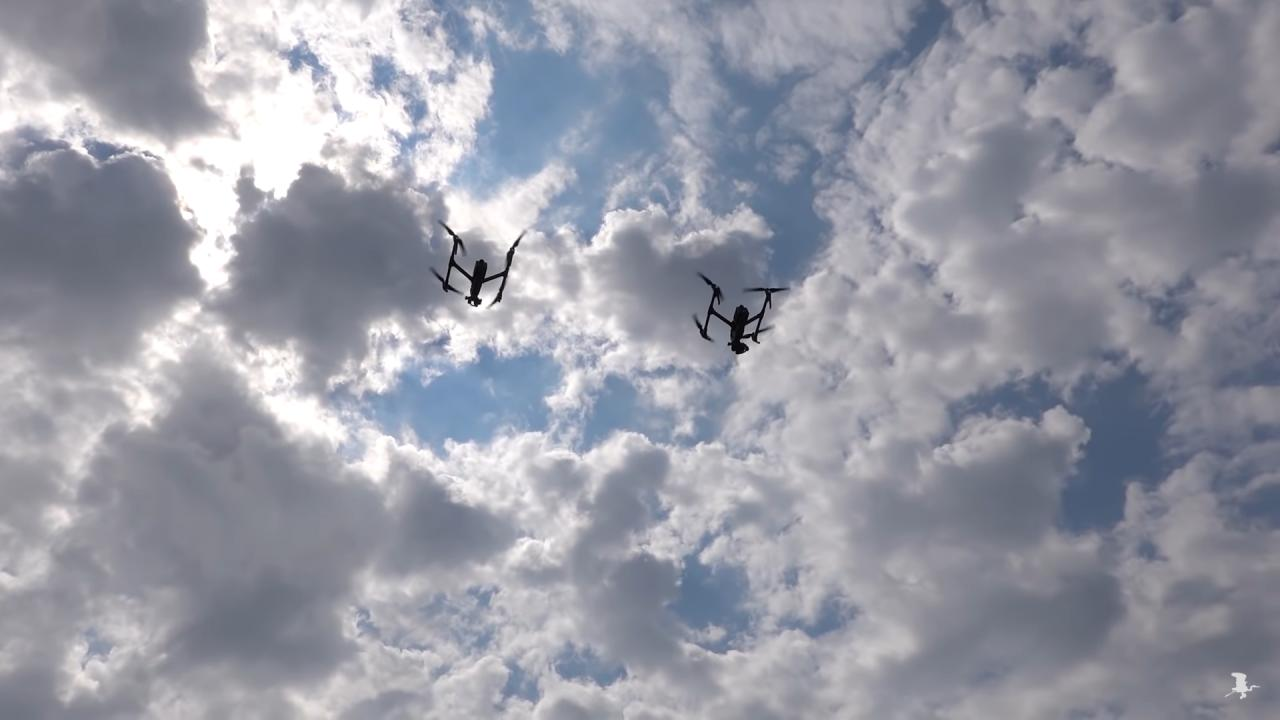Drone: (425, 212, 536, 314), (687, 261, 797, 362)
